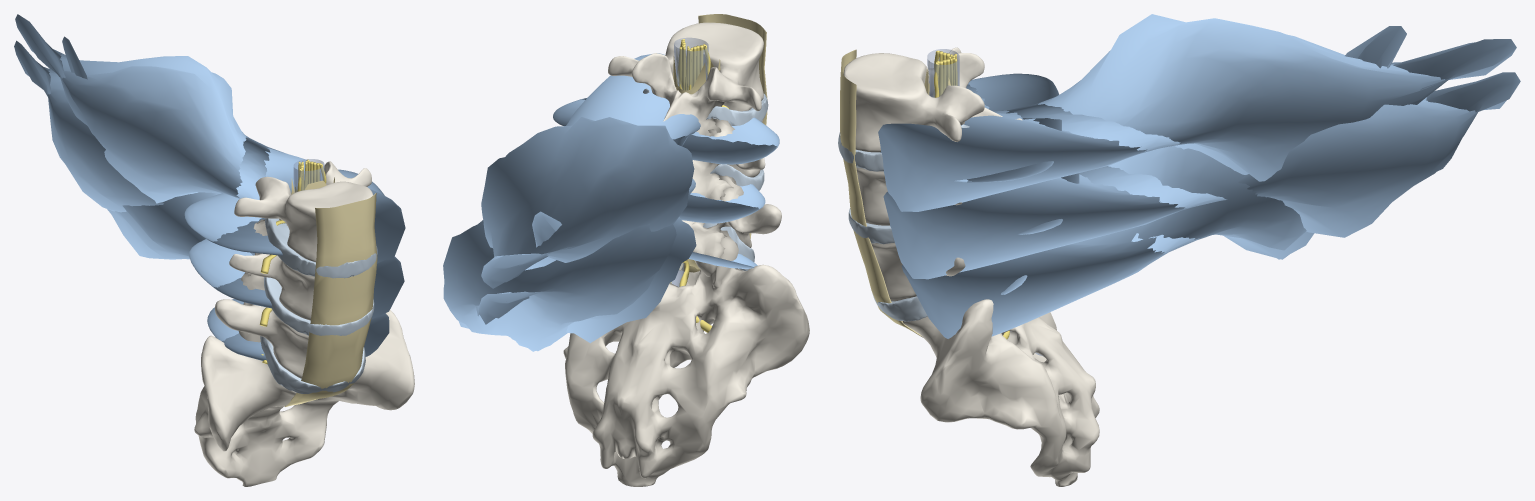
3 views of the same model, side by side, from view 1: azimuth 30°, elevation 25°; view 2: azimuth 150°, elevation 25°; view 3: azimuth 270°, elevation 25° (orthographic). The views are drawn at different scales.
Parts seen in each view (by area): view 1: Prolaps_L3L4, Sacrum, ALL, Prolaps_L4L5, L3, Prolaps_L5S1, Nucleus_L3L4, L5, L4, Nucleus_L4L5, Disc_L3L4, Disc_L4L5 (+3 smaller); view 2: Sacrum, Prolaps_L3L4, Prolaps_L4L5, L3, Prolaps_L5S1, Nucleus_L3L4, L5, Nucleus_L4L5, L4, Durasaek, ALL, Disc_L3L4 (+4 smaller); view 3: Prolaps_L3L4, Prolaps_L4L5, Prolaps_L5S1, Sacrum, L3, Nucleus_L3L4, ALL, L5, L4, Durasaek, Disc_L5S1, Disc_L3L4 (+1 smaller).
Part boxes in pixels (x1,y1,x2,y2): Prolaps_L3L4: (15,14,405,263); Sacrum: (194,310,414,486); ALL: (284,193,377,406); Prolaps_L4L5: (14,40,404,319); L3: (234,161,373,262); Prolaps_L5S1: (62,36,389,356); Nucleus_L3L4: (184,169,384,255); L5: (215,272,308,378); L4: (229,219,314,320); Nucleus_L4L5: (189,239,272,308); Disc_L3L4: (264,218,377,278); Disc_L4L5: (264,277,374,335); Sacrum: (563,230,809,486); Prolaps_L3L4: (481,53,700,288); Prolaps_L4L5: (443,179,695,351); L3: (608,22,763,161); Prolaps_L5S1: (511,211,696,351); Nucleus_L3L4: (553,98,779,164); L5: (682,175,781,276); Nucleus_L4L5: (679,184,765,223); L4: (691,118,765,199); Durasaek: (670,37,708,286); ALL: (698,14,767,238); Disc_L3L4: (643,88,768,125); Prolaps_L3L4: (878,14,1516,211); Prolaps_L4L5: (883,72,1520,279); Prolaps_L5S1: (901,26,1406,338); Sacrum: (902,299,1099,486); L3: (843,47,1022,152); Nucleus_L3L4: (953,73,1061,182); ALL: (840,49,922,337); L5: (871,243,965,301); L4: (856,167,962,225); Durasaek: (927,49,1043,356); Disc_L5S1: (872,293,927,321); Disc_L3L4: (838,124,969,171).
Size of the model in its own units: 0.1229 by 0.2157 by 0.3022.
